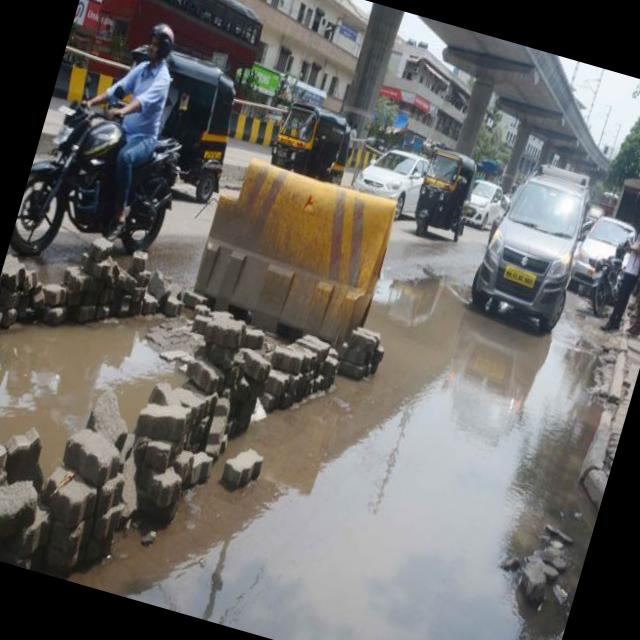Potholes: (235, 206, 640, 640), (0, 202, 322, 574)
